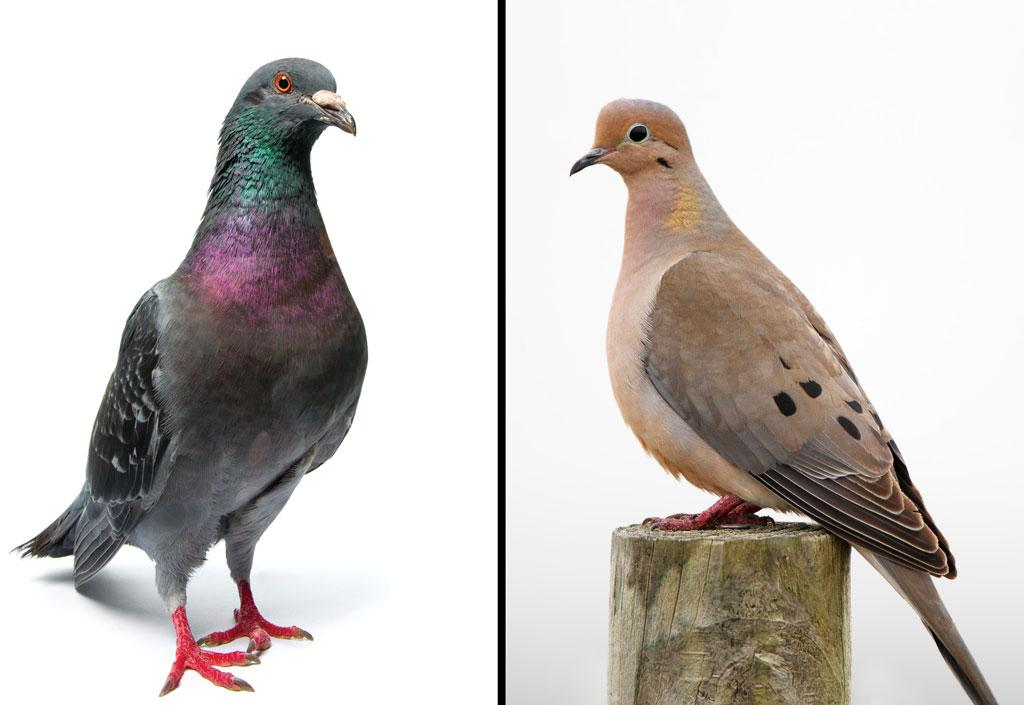Flying Rat: (14, 54, 369, 684), (572, 85, 972, 616)
